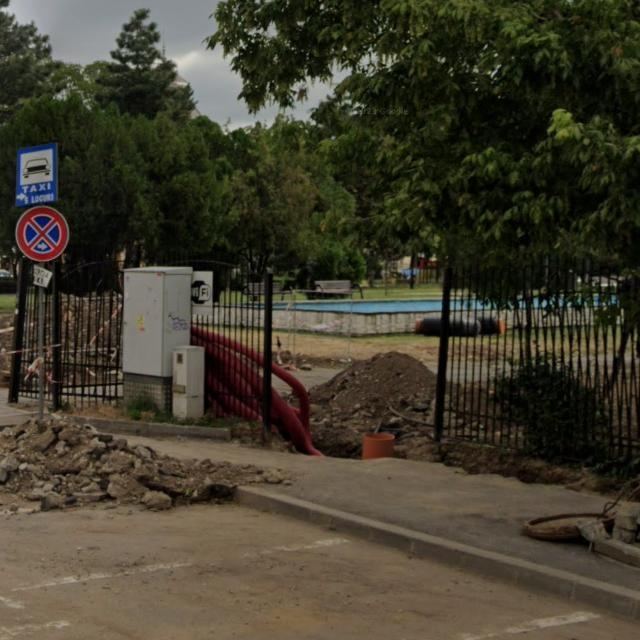forb_waiting: (16, 207, 70, 261)
